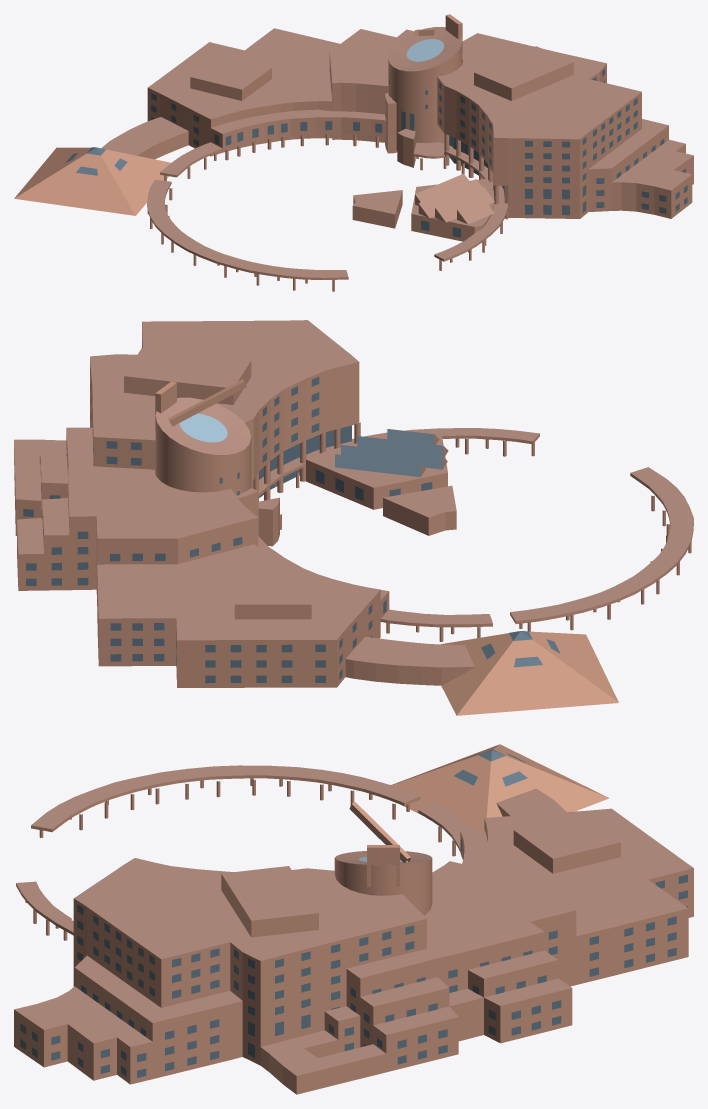
The picture shows the model from 3 angles, top to bottom: view 1: azimuth 30°, elevation 25°; view 2: azimuth 150°, elevation 25°; view 3: azimuth 270°, elevation 25°; orthographic projection. The views are drawn at different scales.
Visible parts, largest first — view 1: clark-county-government-center; view 2: clark-county-government-center; view 3: clark-county-government-center.
Part boxes in pixels (x1,y1,x2,y2): clark-county-government-center: (14, 14, 693, 291); clark-county-government-center: (14, 320, 693, 715); clark-county-government-center: (14, 744, 693, 1094).
Bounding box in the file's own units: 201 × 43.82 × 165.
